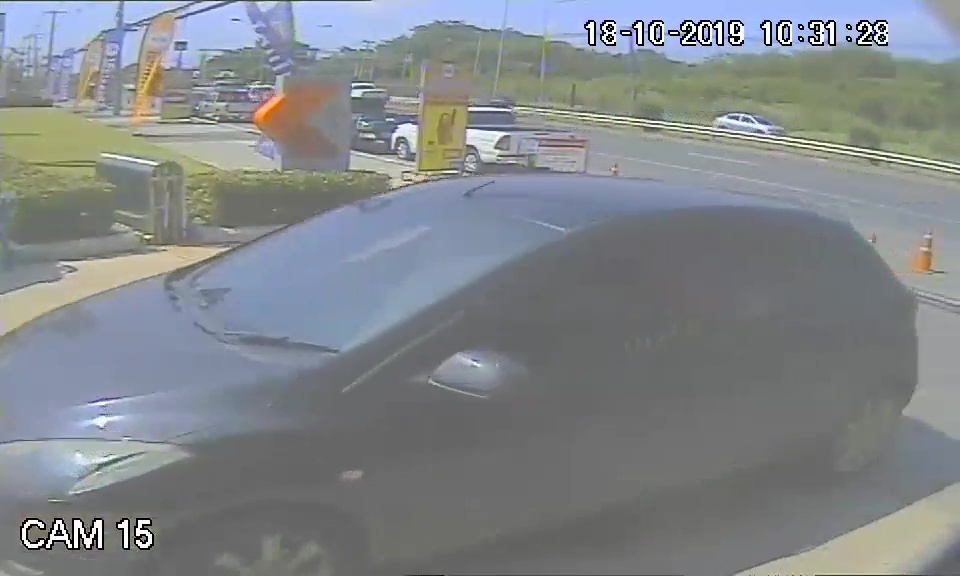sedan: (9, 174, 917, 533)
